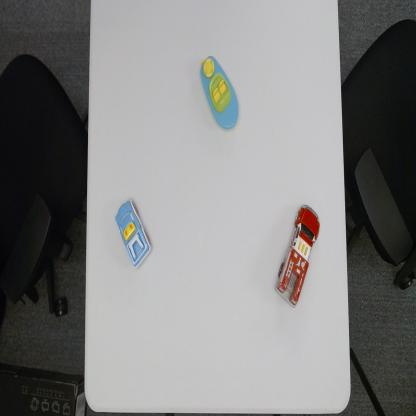Boat: (198, 52, 241, 132)
Car: (114, 196, 154, 270)
Firetruck: (274, 202, 321, 311)
